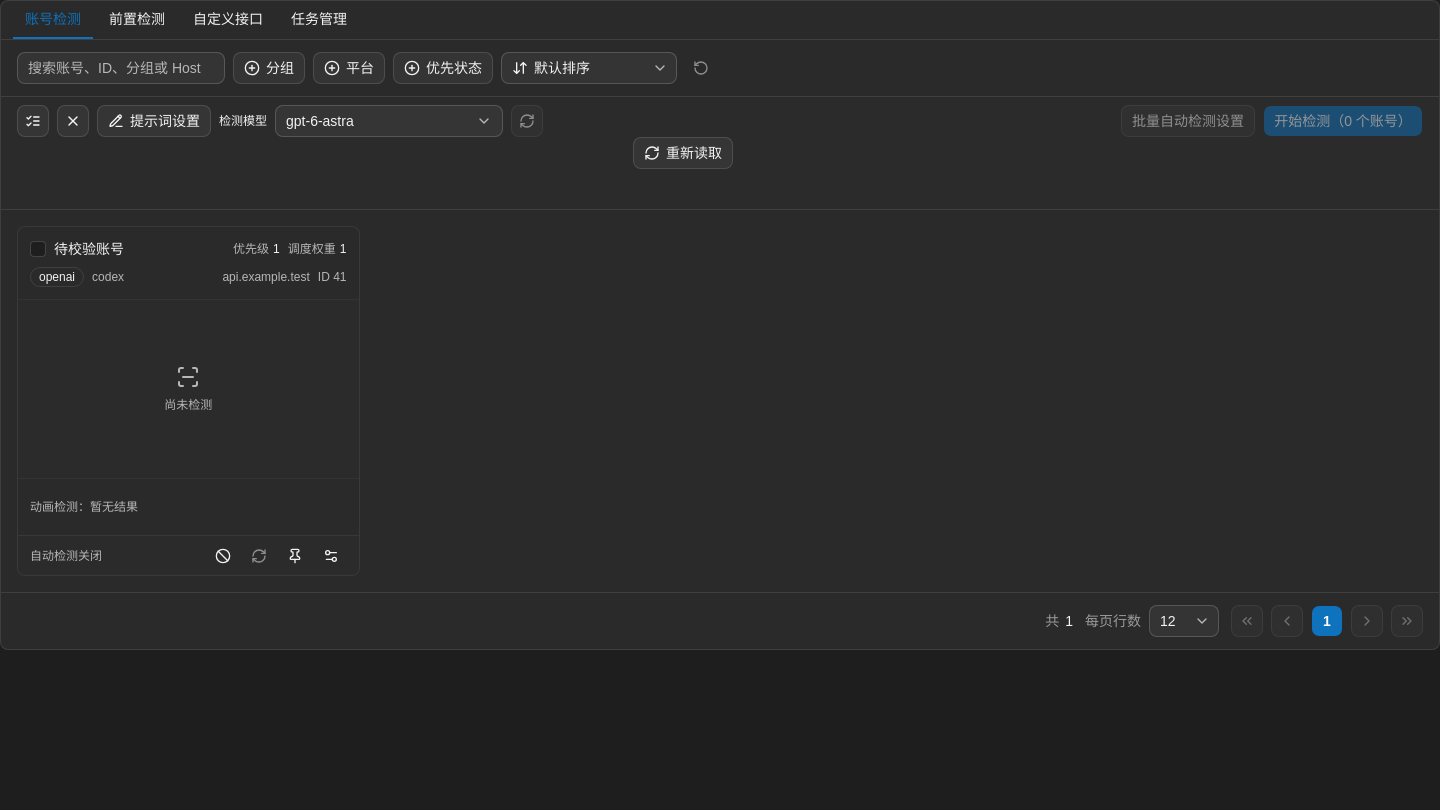
前置检测 卡片确认熔断后按稳定 ID 提交任务，完成后显示恢复入口
Click the tab "前置检测" at (137, 20), box [97,1,177,39]
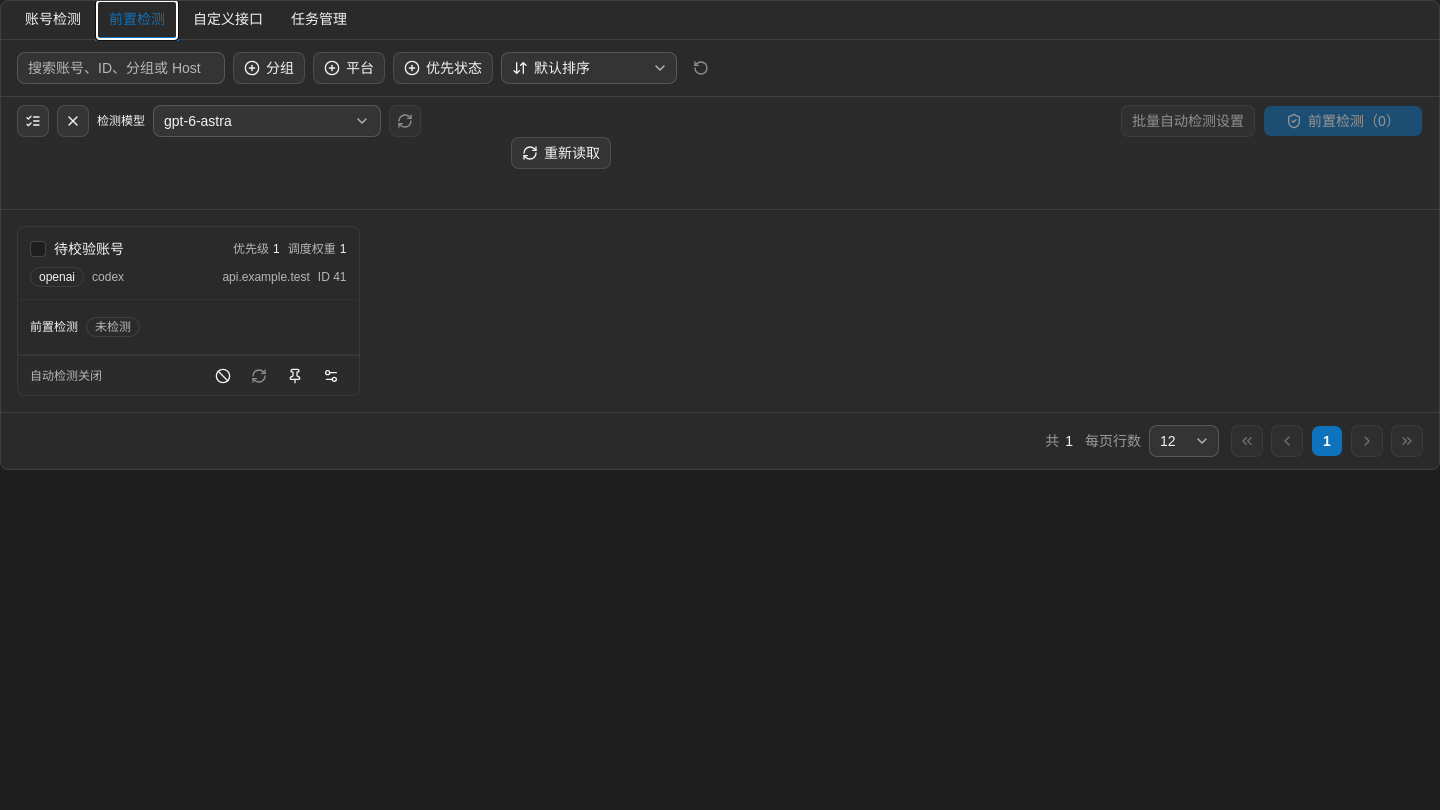
Click the button named "手动熔断" at (222, 376), box [206,360,238,392]
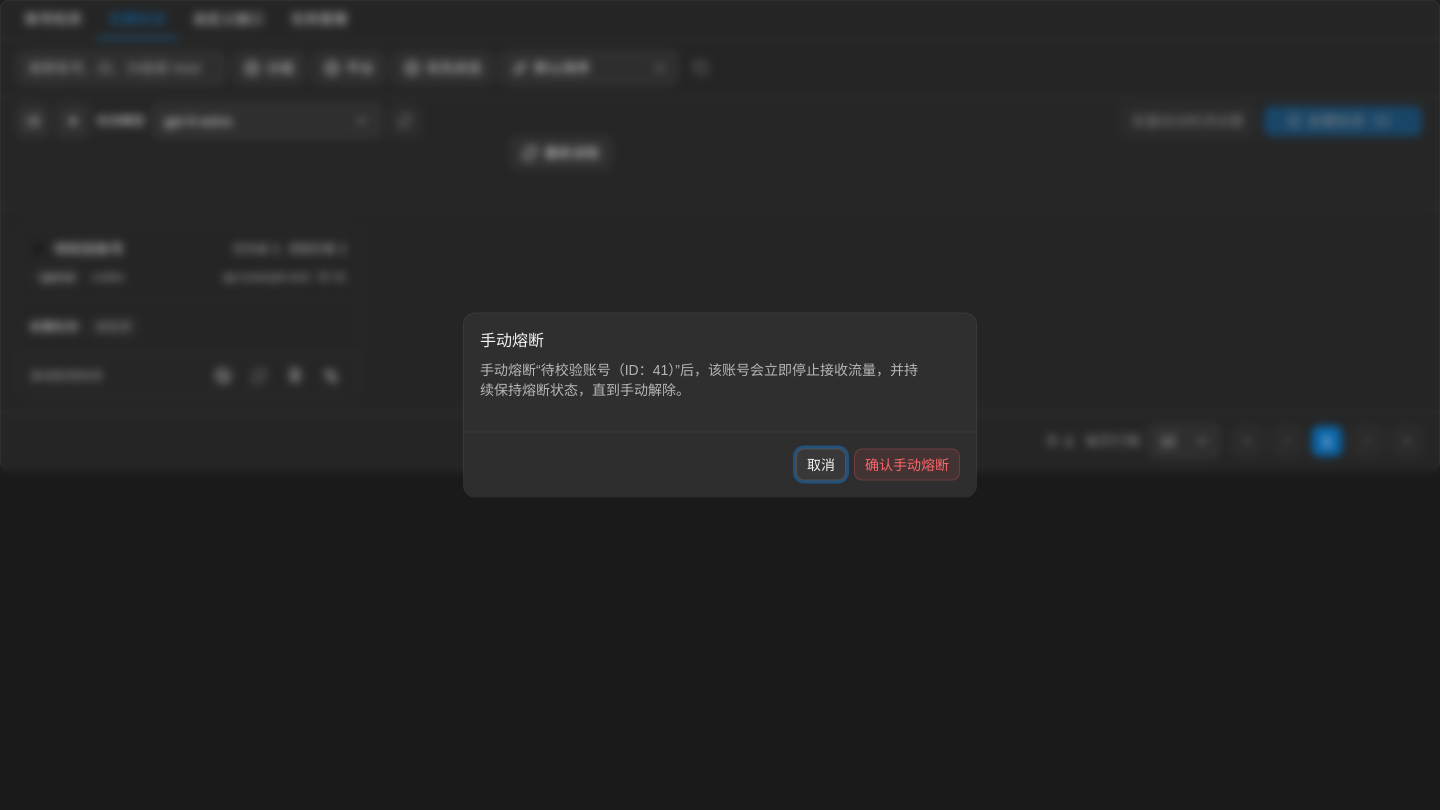
expect the dialog "手动熔断" shows "ID：41": met, box [480,362,918,398]
expect the button "确认手动熔断" is enabled: met
Click the button "确认手动熔断" at (907, 464), box [854,448,960,480]
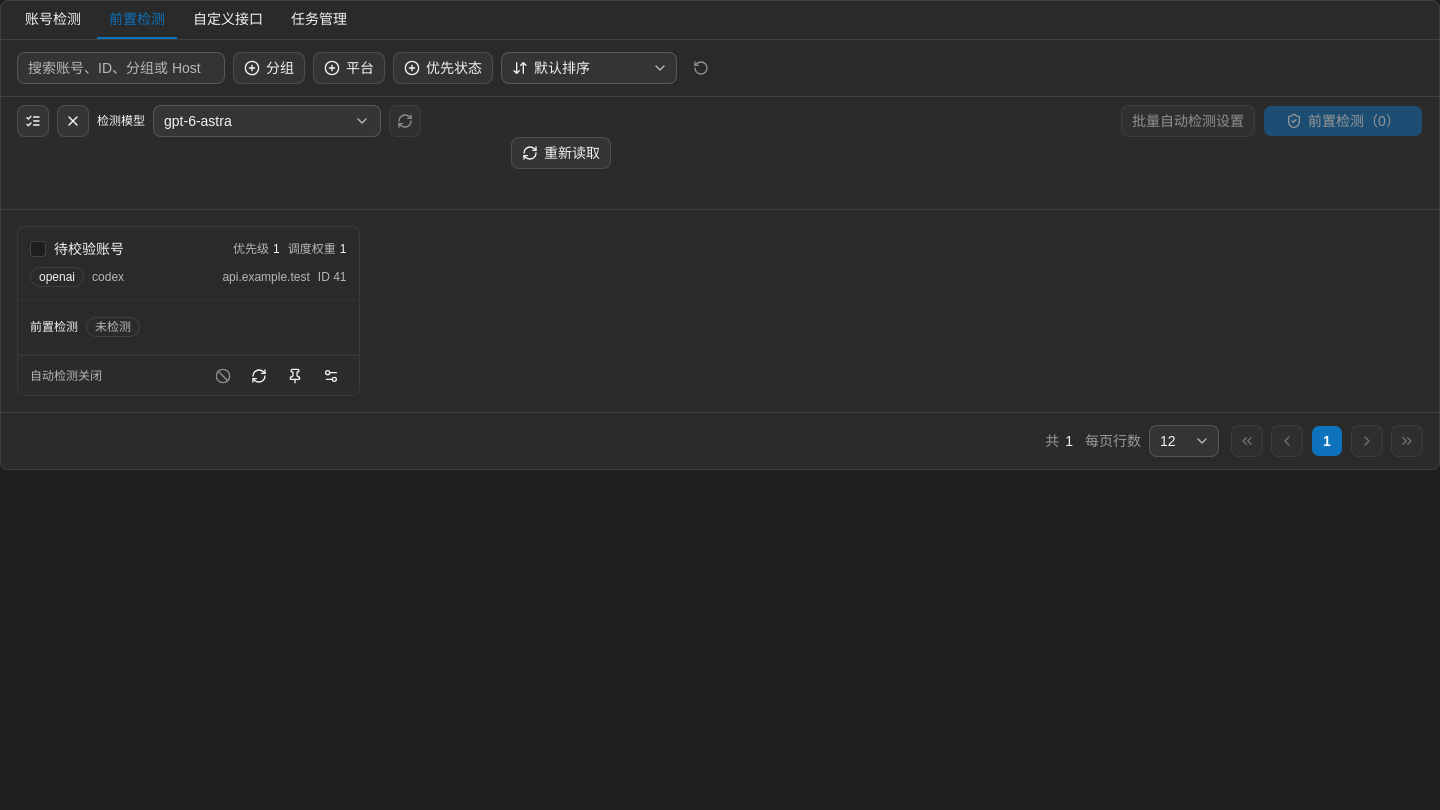
expect the button named "手动熔断" is disabled: met, box [206,360,238,392]
expect the button named "解除熔断" is enabled: met, box [242,360,274,392]
